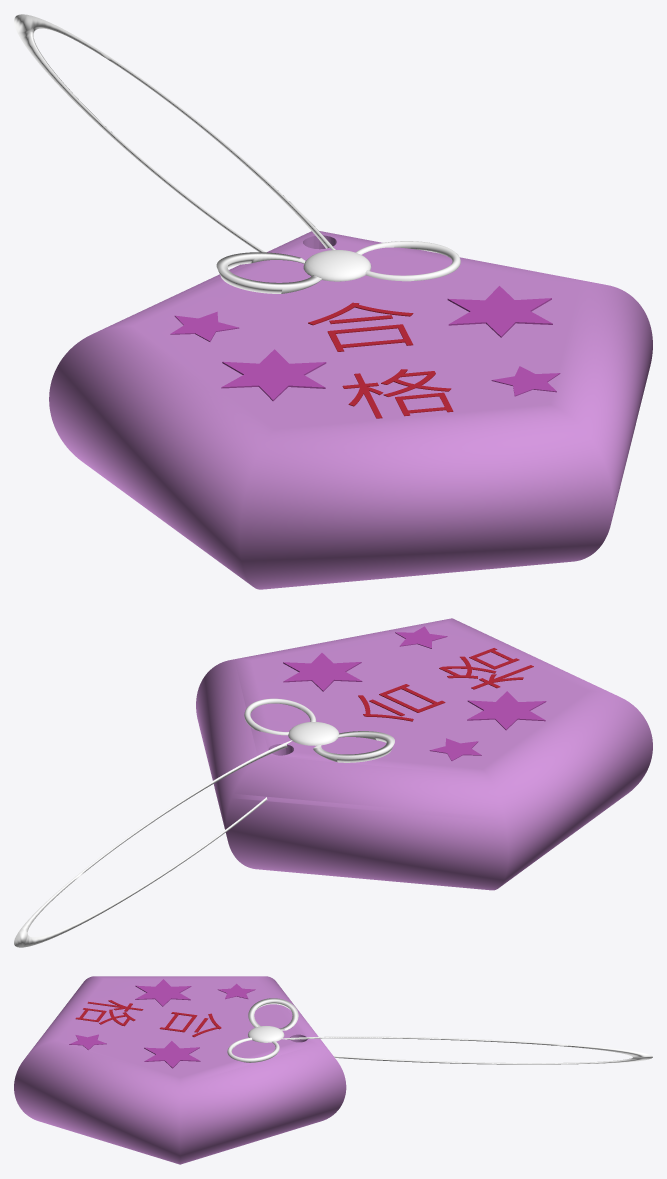
The picture shows the model from 3 angles, top to bottom: view 1: azimuth 30°, elevation 25°; view 2: azimuth 150°, elevation 25°; view 3: azimuth 270°, elevation 25°; orthographic projection. The views are drawn at different scales.
Parts seen in each view (by area): view 1: ChamferCyl001; view 2: ChamferCyl001; view 3: ChamferCyl001.
Part boxes in pixels (<box>): ChamferCyl001: <box>14,14,652,589</box>; ChamferCyl001: <box>14,618,652,947</box>; ChamferCyl001: <box>14,976,652,1164</box>.
Size of the model in its own units: 0.9009 by 0.2863 by 1.82.
